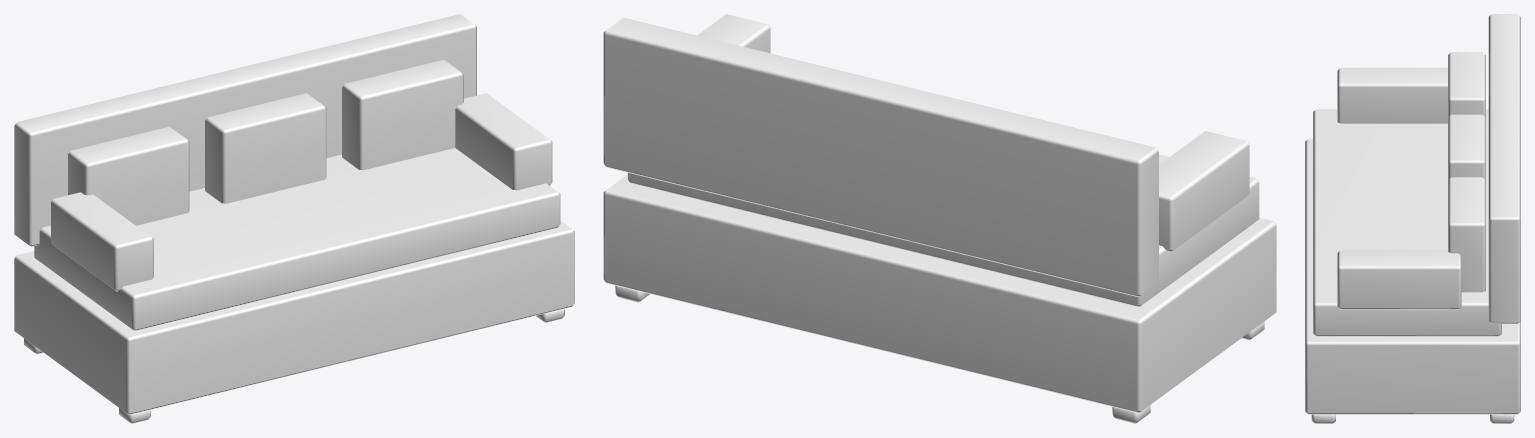
The model's file is diwan.glb.
3 renders of one model, left to right at view 1: azimuth 30°, elevation 25°; view 2: azimuth 150°, elevation 25°; view 3: azimuth 270°, elevation 25°, orthographic. The views are drawn at different scales.
Visible parts, largest first — view 1: Diwan; view 2: Diwan; view 3: Diwan.
Boxes of the visible parts, x1=… form: Diwan: x1=14, y1=14, x2=574, y2=423; Diwan: x1=603, y1=14, x2=1276, y2=423; Diwan: x1=1305, y1=14, x2=1520, y2=423.
Size of the model in its own units: 1.8 by 0.86 by 0.8.
Materials: 1 (1 with a texture image).
